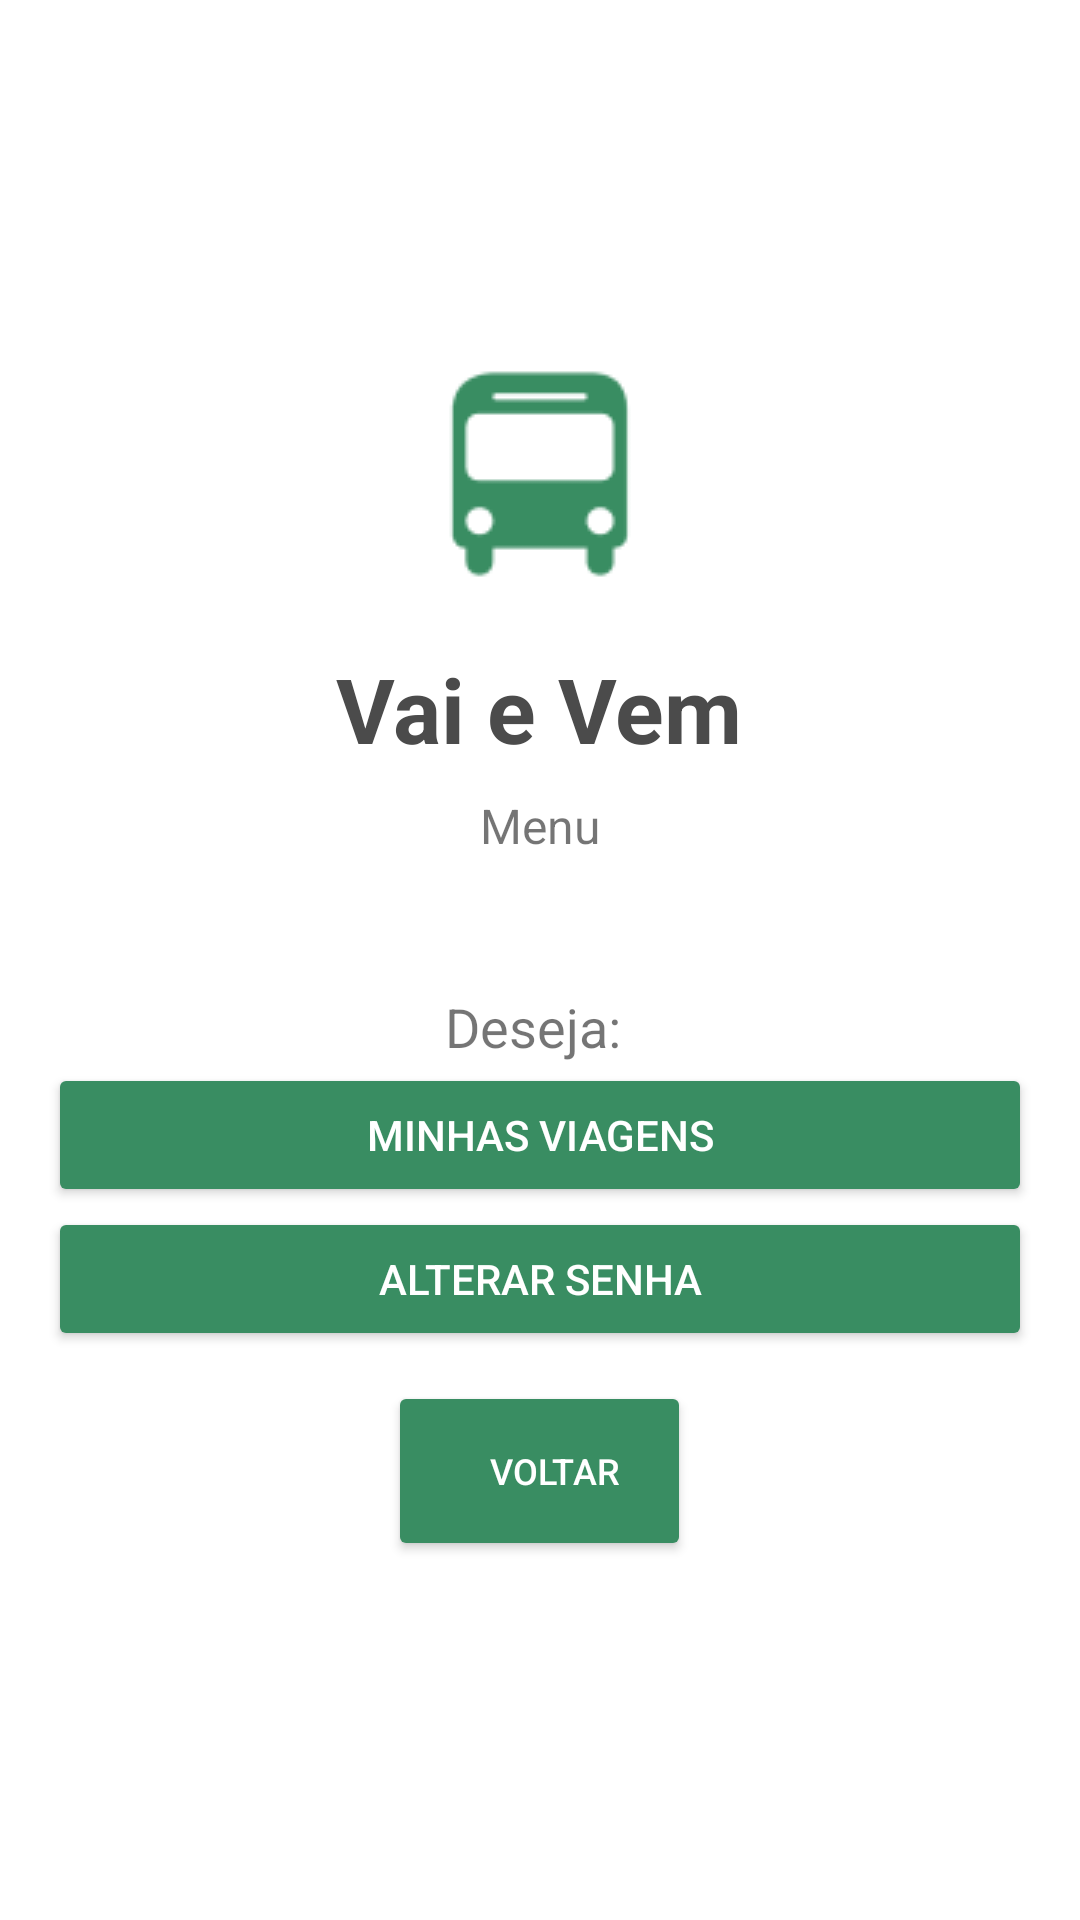

Screen size 1080×1920. Icon name, then its box in pixels as (x1, y1, x2, y2):
Ícone de ônibus: (451, 371, 628, 577)
